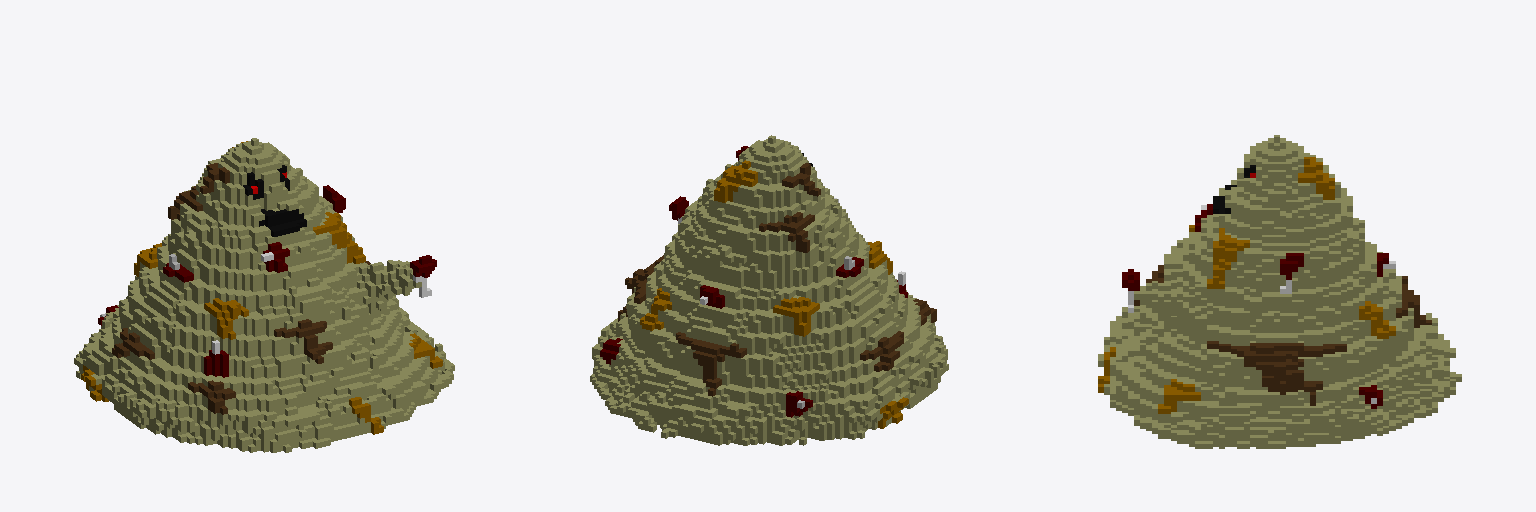
The picture shows the model from 3 angles: view 1: azimuth 30°, elevation 25°; view 2: azimuth 150°, elevation 25°; view 3: azimuth 270°, elevation 25°; orthographic projection.
Visible parts, largest first — view 1: Aberration; view 2: Aberration; view 3: Aberration.
Boxes of the visible parts, x1,y1,x2,y2 form: Aberration: [74, 138, 454, 452]; Aberration: [590, 135, 948, 445]; Aberration: [1098, 135, 1461, 448].
Size of the model in its own units: 58 by 43 by 60.
1 materials, 1 textured.